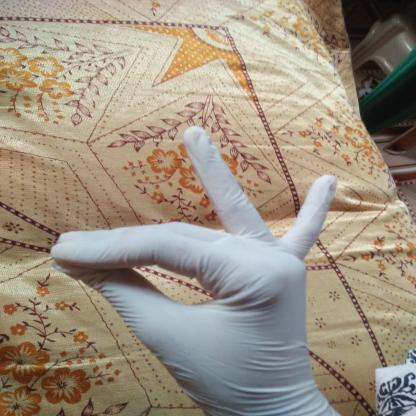gloved_hand: (46, 125, 342, 416)
